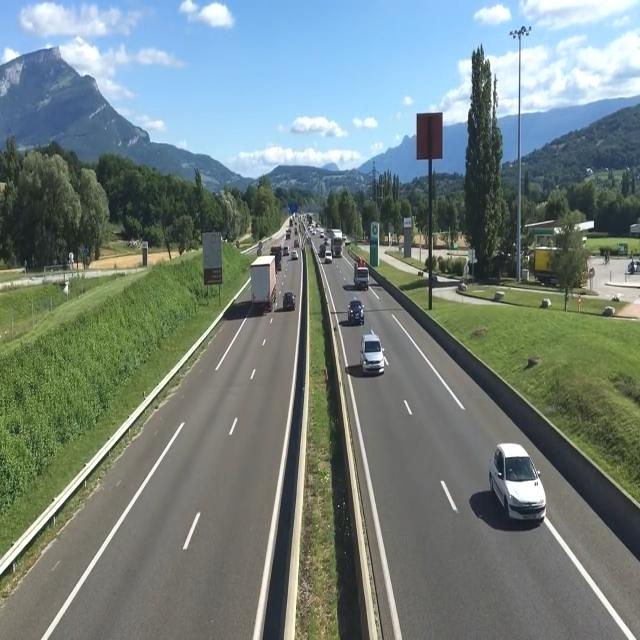Car: (489, 442, 548, 524), (360, 331, 385, 375), (348, 298, 364, 324), (280, 290, 297, 311), (324, 249, 333, 263), (290, 249, 300, 261), (282, 246, 289, 256), (294, 239, 299, 247), (319, 232, 325, 238), (311, 230, 316, 236)
Truck: (530, 246, 587, 285), (248, 255, 278, 310), (353, 256, 370, 290), (330, 228, 343, 260), (270, 246, 283, 270)
